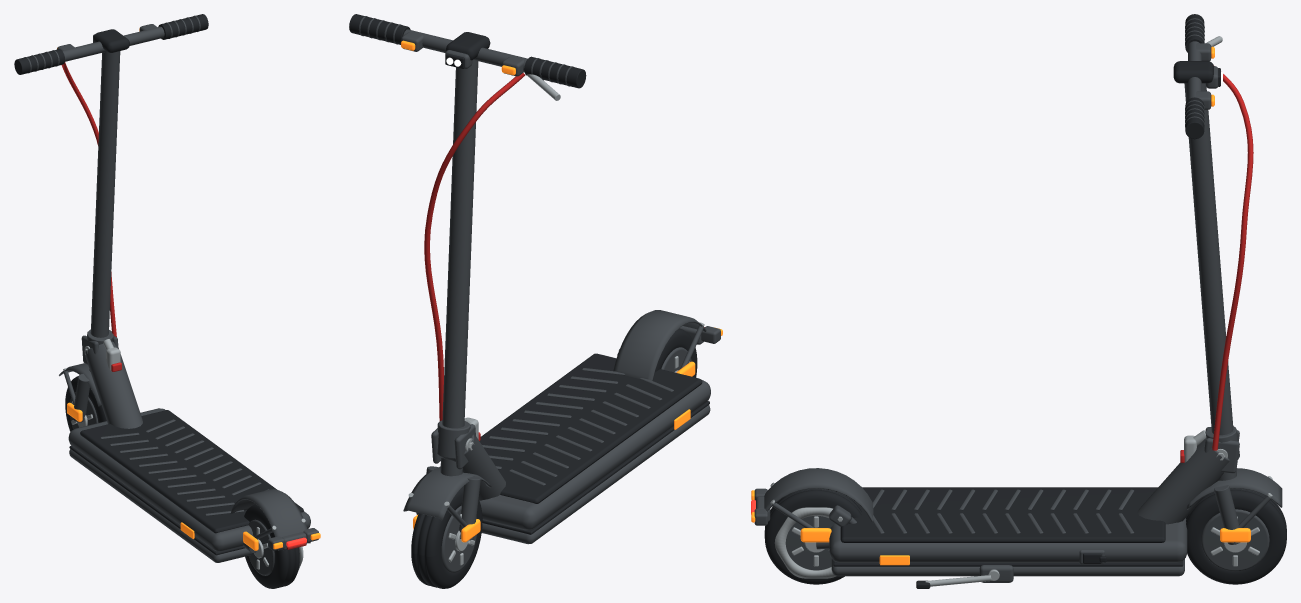
Rendered from electric_kick_scooter.glb.
The picture shows the model from 3 angles, left to right: view 1: azimuth 30°, elevation 25°; view 2: azimuth 150°, elevation 25°; view 3: azimuth 270°, elevation 25°; orthographic projection. The views are drawn at different scales.
Visible parts, largest first — view 1: Textured standing pad, Handlebar tube, Die cast battery deck, Deck neck, Wheel guard, Road tyre.001, Battery tray cover, Handlebar, Handle grip, Handle grip.001, Hub motor case.001, Battery tray gasket (+4 smaller); view 2: Textured standing pad, Handlebar tube, Die cast battery deck, Wheel guard, Road tyre, Battery tray cover, Red brake cable, Wheel guard.001, Deck neck, Handle grip, Battery tray gasket, Handle grip.001 (+6 smaller); view 3: Textured standing pad, Die cast battery deck, Handlebar tube, Road tyre, Battery tray cover, Deck neck, Road tyre.001, Red brake cable, Wheel guard, Hub motor case, Rear brake rotor, Wheel guard.001 (+5 smaller).
Boxes of the visible parts, box(x1,y1,x2,y2) form: Textured standing pad: box(80, 410, 303, 533); Handlebar tube: box(89, 51, 120, 371); Die cast battery deck: box(68, 408, 310, 551); Deck neck: box(84, 341, 142, 428); Wheel guard: box(231, 489, 310, 550); Road tyre.001: box(244, 504, 299, 588); Battery tray cover: box(69, 449, 251, 562); Handlebar: box(62, 26, 164, 61); Handle grip: box(14, 49, 64, 74); Handle grip.001: box(158, 14, 208, 39); Hub motor case.001: box(248, 519, 274, 575); Battery tray gasket: box(69, 445, 244, 555); Textured standing pad: box(439, 353, 702, 503); Handlebar tube: box(440, 59, 478, 476); Die cast battery deck: box(479, 380, 710, 530); Wheel guard: box(613, 310, 706, 380); Road tyre: box(411, 486, 482, 588); Battery tray cover: box(416, 405, 710, 544); Red brake cable: box(424, 73, 525, 420); Wheel guard.001: box(403, 467, 491, 520); Deck neck: box(440, 434, 505, 500); Handle grip: box(524, 56, 586, 88); Battery tray gasket: box(482, 401, 709, 534); Handle grip.001: box(349, 14, 410, 44); Textured standing pad: box(840, 487, 1165, 542); Die cast battery deck: box(829, 518, 1187, 562); Handlebar tube: box(1184, 83, 1236, 480); Road tyre: box(1186, 488, 1286, 584); Battery tray cover: box(831, 559, 1184, 576); Deck neck: box(1137, 438, 1229, 524); Road tyre.001: box(764, 488, 861, 584); Red brake cable: box(1212, 74, 1253, 450); Wheel guard: box(764, 468, 873, 521); Hub motor case: box(1201, 509, 1269, 571); Rear brake rotor: box(774, 507, 836, 578); Wheel guard.001: box(1186, 468, 1282, 509).
Size of the model in its own units: 0.588 by 1.3 by 1.23.
